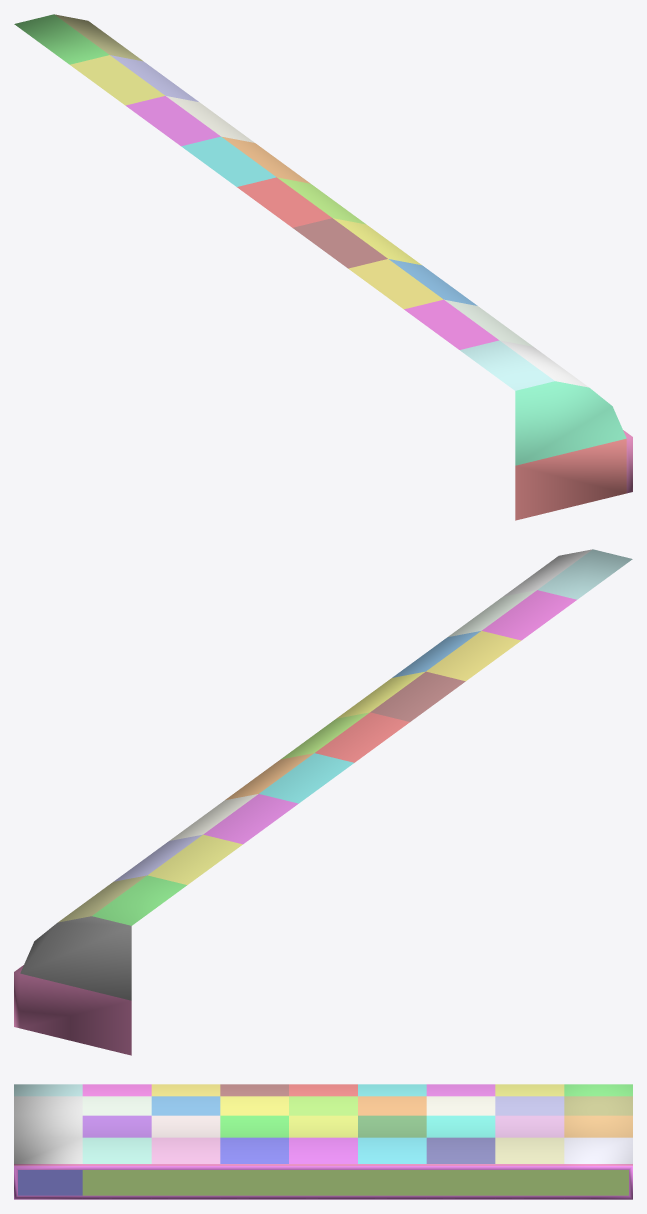
Rendered from SM_shopCanopy_02.gltf.
The picture shows the model from 3 angles, top to bottom: view 1: azimuth 30°, elevation 25°; view 2: azimuth 150°, elevation 25°; view 3: azimuth 270°, elevation 25°; orthographic projection. The views are drawn at different scales.
Visible parts, largest first — view 1: SM_shopCanopy_02; view 2: SM_shopCanopy_02; view 3: SM_shopCanopy_02.
Part boxes in pixels (x1,y1,x2,y2): SM_shopCanopy_02: (14, 14, 632, 520); SM_shopCanopy_02: (14, 549, 632, 1055); SM_shopCanopy_02: (14, 1084, 632, 1199).
Size of the model in its own units: 0.95 by 1 by 7.
